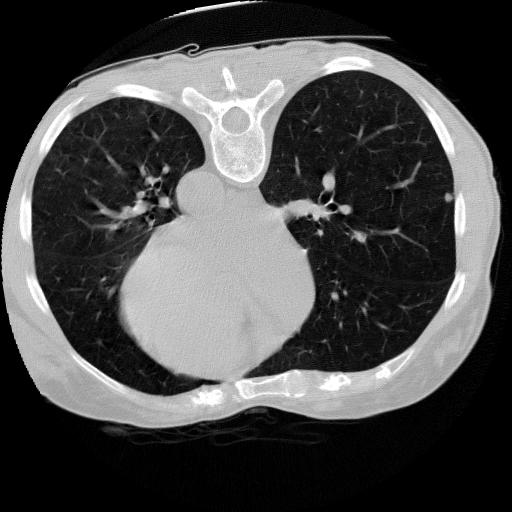nodule: (441, 189, 457, 205)
